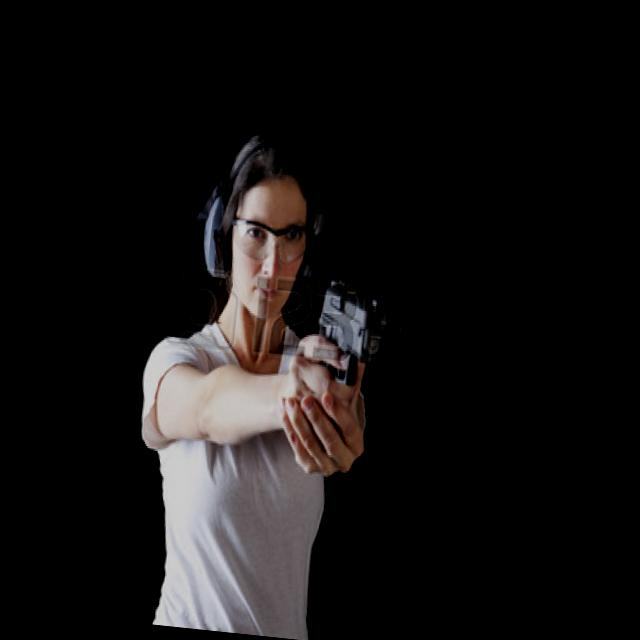handgun: (307, 274, 388, 391)
